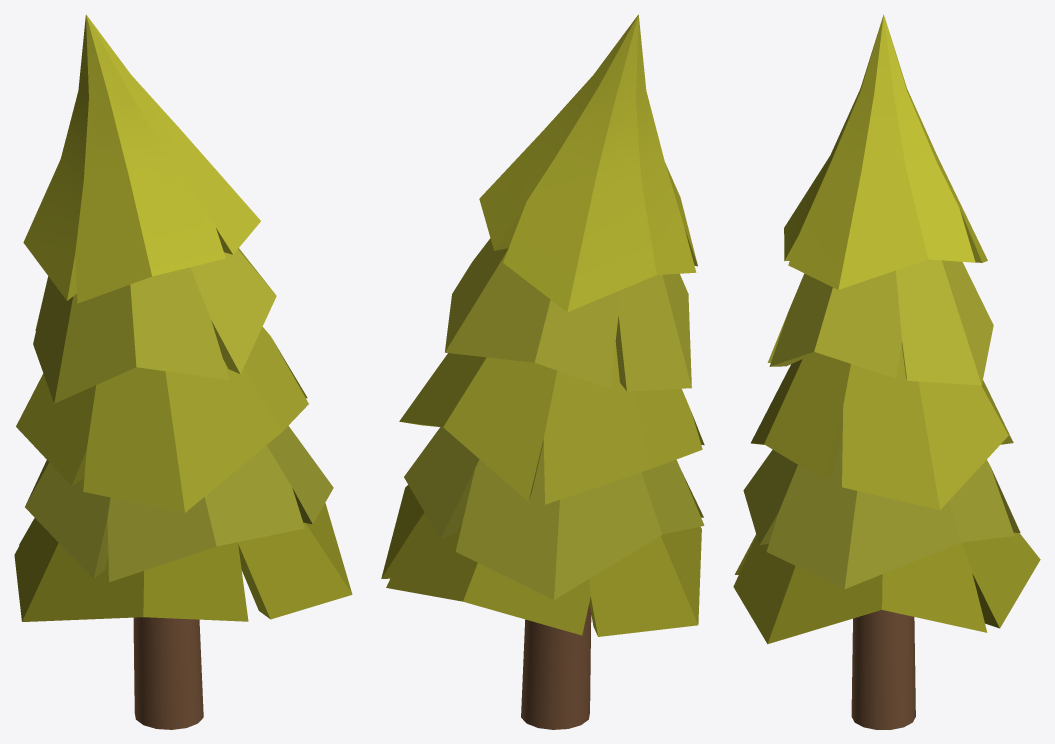
Rendered from Spruce_Yellow_Thin_2.fbx.
The picture shows the model from 3 angles, left to right: view 1: azimuth 30°, elevation 25°; view 2: azimuth 150°, elevation 25°; view 3: azimuth 270°, elevation 25°; orthographic projection. The views are drawn at different scales.
Visible parts, largest first — view 1: Cylinder.394, Cylinder.395, Cylinder.396, Cylinder.398, Cylinder.397, Cylinder.399; view 2: Cylinder.394, Cylinder.395, Cylinder.397, Cylinder.396, Cylinder.398, Cylinder.399; view 3: Cylinder.394, Cylinder.395, Cylinder.397, Cylinder.396, Cylinder.398, Cylinder.399.
Part boxes in pixels (x1=…): Cylinder.394: x1=23, y1=14, x2=260, y2=303; Cylinder.395: x1=16, y1=327, x2=308, y2=512; Cylinder.396: x1=33, y1=248, x2=276, y2=403; Cylinder.398: x1=14, y1=503, x2=352, y2=621; Cylinder.397: x1=25, y1=426, x2=333, y2=582; Cylinder.399: x1=133, y1=617, x2=203, y2=729; Cylinder.394: x1=479, y1=14, x2=697, y2=312; Cylinder.395: x1=399, y1=342, x2=704, y2=504; Cylinder.397: x1=404, y1=427, x2=704, y2=599; Cylinder.396: x1=445, y1=238, x2=691, y2=391; Cylinder.398: x1=381, y1=485, x2=701, y2=636; Cylinder.399: x1=521, y1=603, x2=591, y2=729; Cylinder.394: x1=784, y1=14, x2=987, y2=289; Cylinder.395: x1=751, y1=345, x2=1013, y2=509; Cylinder.397: x1=743, y1=436, x2=1020, y2=589; Cylinder.396: x1=767, y1=259, x2=993, y2=385; Cylinder.398: x1=733, y1=532, x2=1040, y2=644; Cylinder.399: x1=851, y1=610, x2=915, y2=729.
Bounding box in the file's own units: 244 × 568 × 238.
